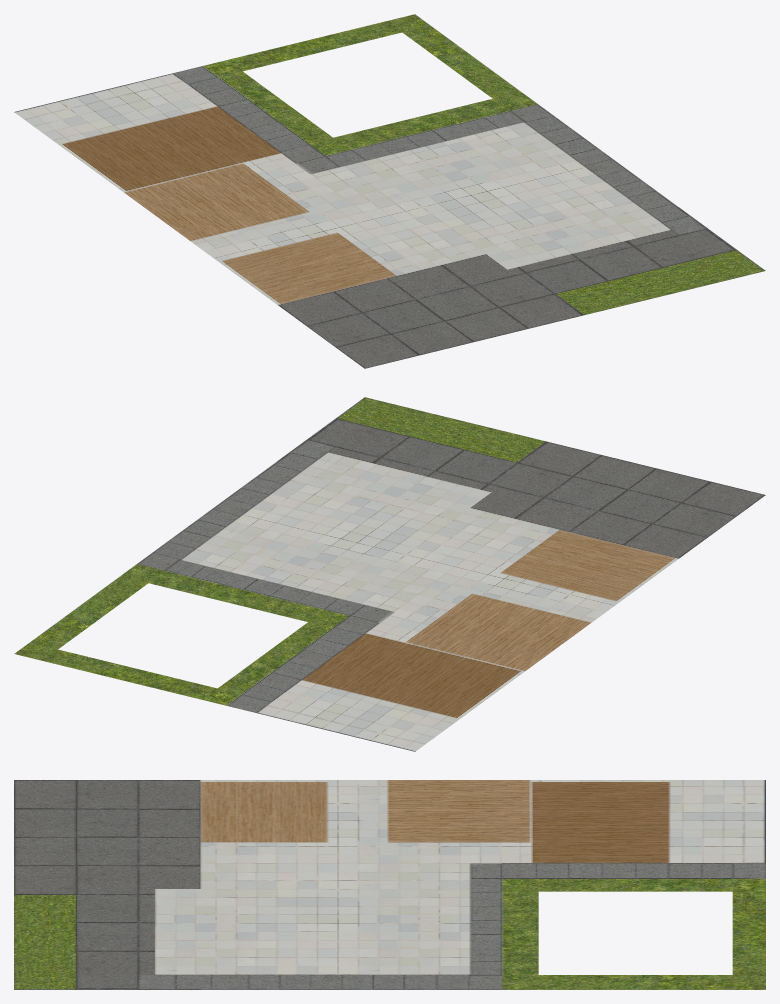
File: Suelo.obj
3 renders of one model, top to bottom at view 1: azimuth 30°, elevation 25°; view 2: azimuth 150°, elevation 25°; view 3: azimuth 270°, elevation 25°, orthographic. The views are drawn at different scales.
Visible parts, largest first — view 1: Plane; view 2: Plane; view 3: Plane.
Part boxes in pixels (x1,y1,x2,y2): Plane: (14,14,765,368); Plane: (14,397,765,751); Plane: (14,780,765,989).
Bounding box in the file's own units: 66 × 0 × 99.97.
Materials: 1 (1 with a texture image).
